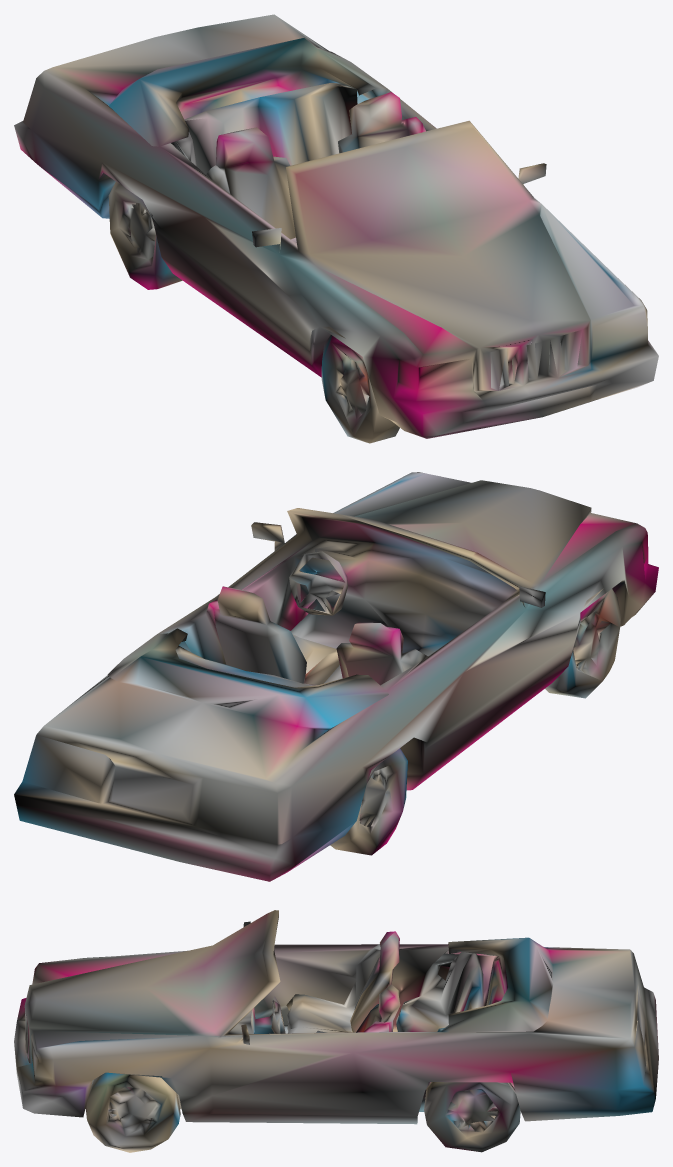
File: car_cabrio.glb
3 renders of one model, top to bottom at view 1: azimuth 30°, elevation 25°; view 2: azimuth 150°, elevation 25°; view 3: azimuth 270°, elevation 25°, orthographic. The views are drawn at different scales.
Bounding box in the file's own units: 1.87 × 1.26 × 4.49.
